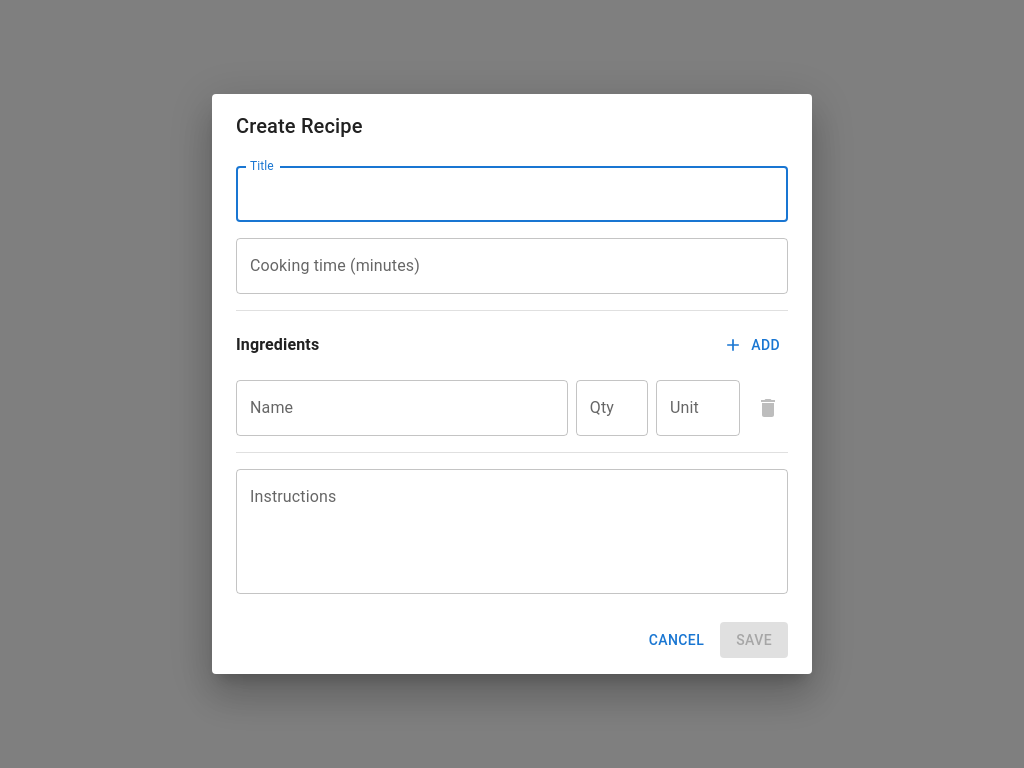
Test: CreateRecipeDialog › disables Save until required fields are filled
Expected: the button "Save" is disabled, [720, 622, 788, 658]
Type "My Recipe" into the field labelled "Title" at (512, 194), box [236, 166, 788, 222]
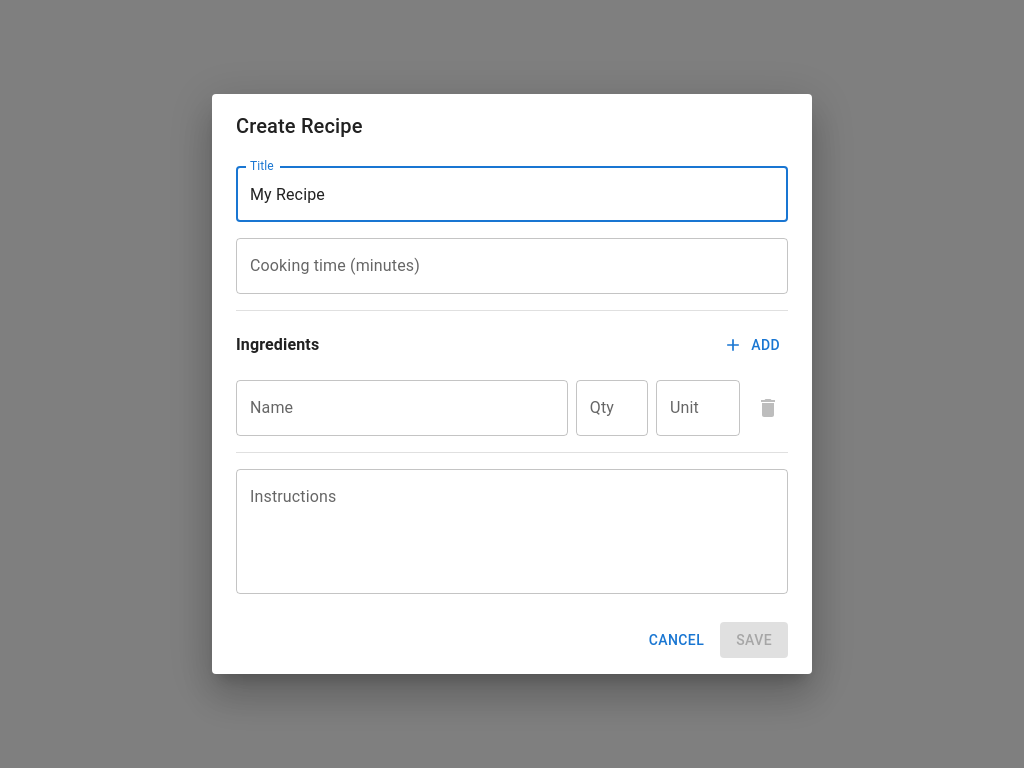
Expected: the button "Save" is disabled, [720, 622, 788, 658]
Type "10" into the field labelled "Cooking time (minutes)" at (512, 266), box [236, 238, 788, 294]
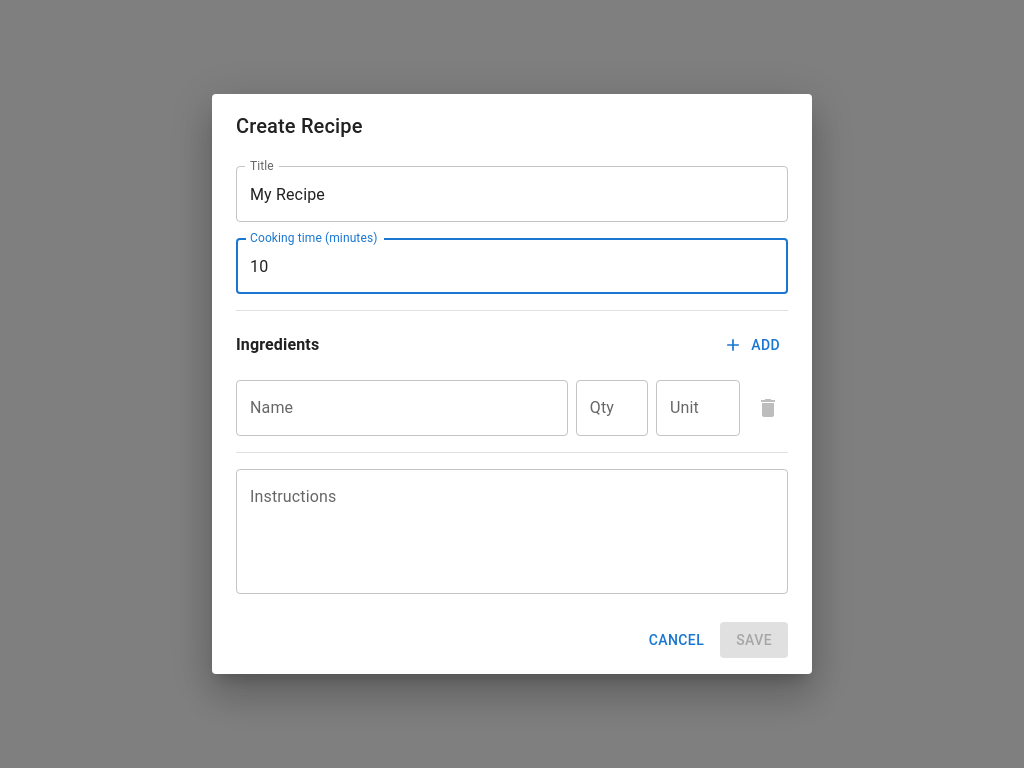
Expected: the button "Save" is disabled, [720, 622, 788, 658]
Type "ground beef" into the field labelled "Name" at (402, 408), box [236, 380, 568, 436]
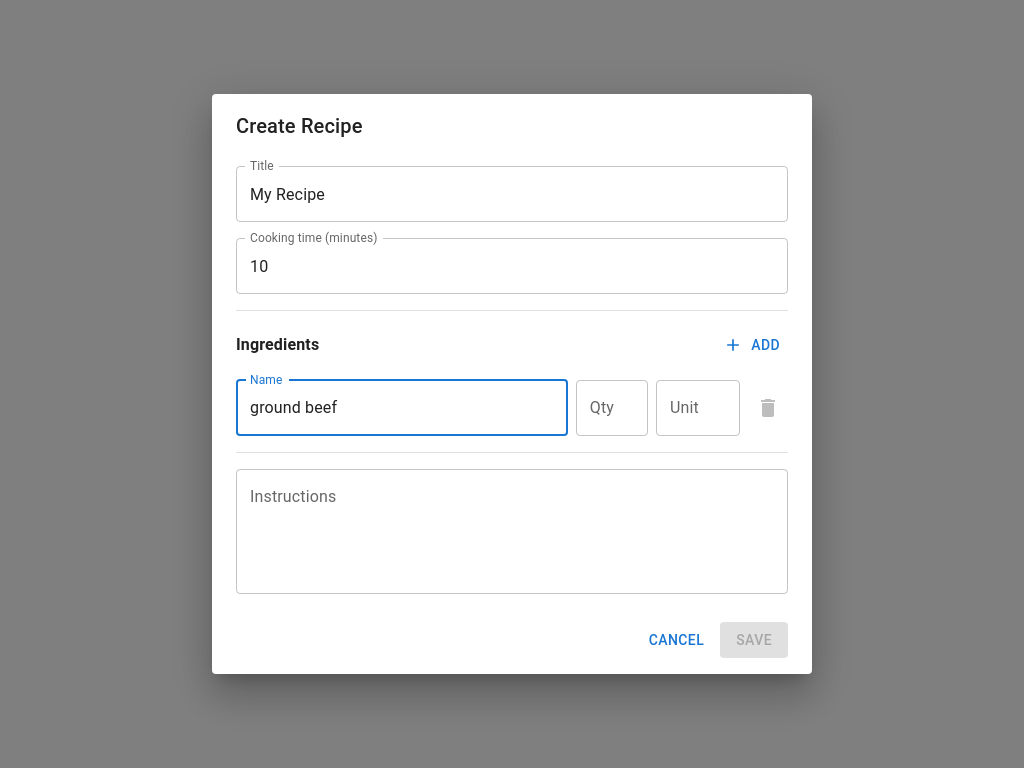
Expected: the button "Save" is disabled, [720, 622, 788, 658]
Type "1" into the field labelled "Qty" at (612, 408), box [576, 380, 648, 436]
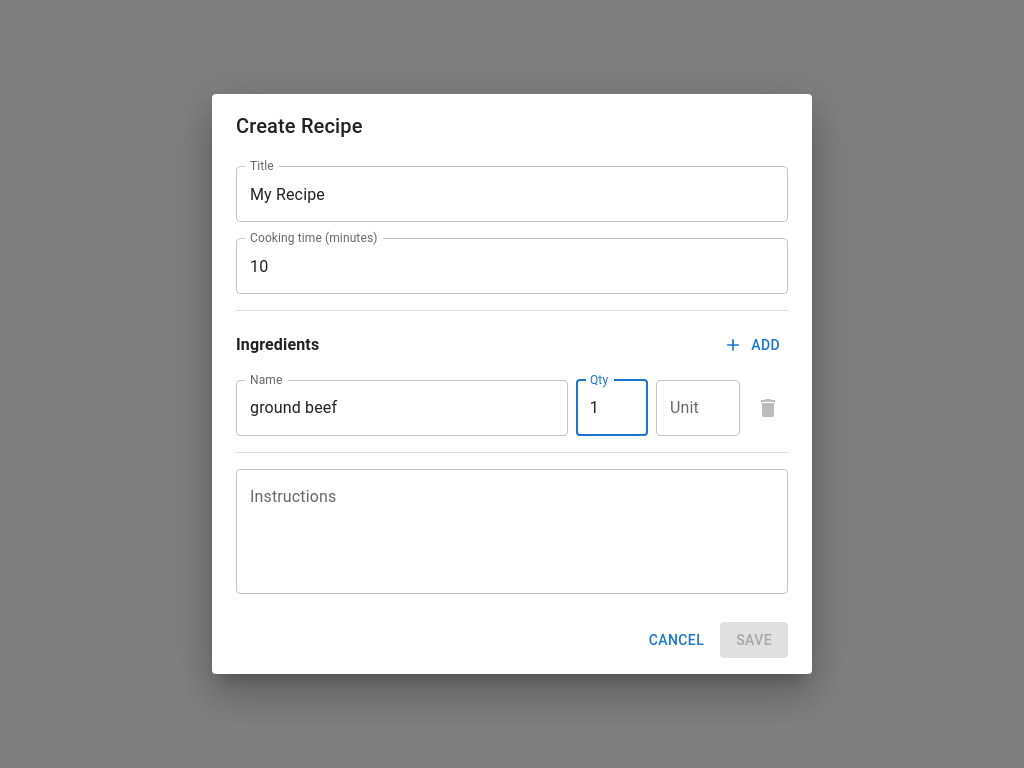
Expected: the button "Save" is disabled, [720, 622, 788, 658]
Type "lb" into the field labelled "Unit" at (698, 408), box [656, 380, 740, 436]
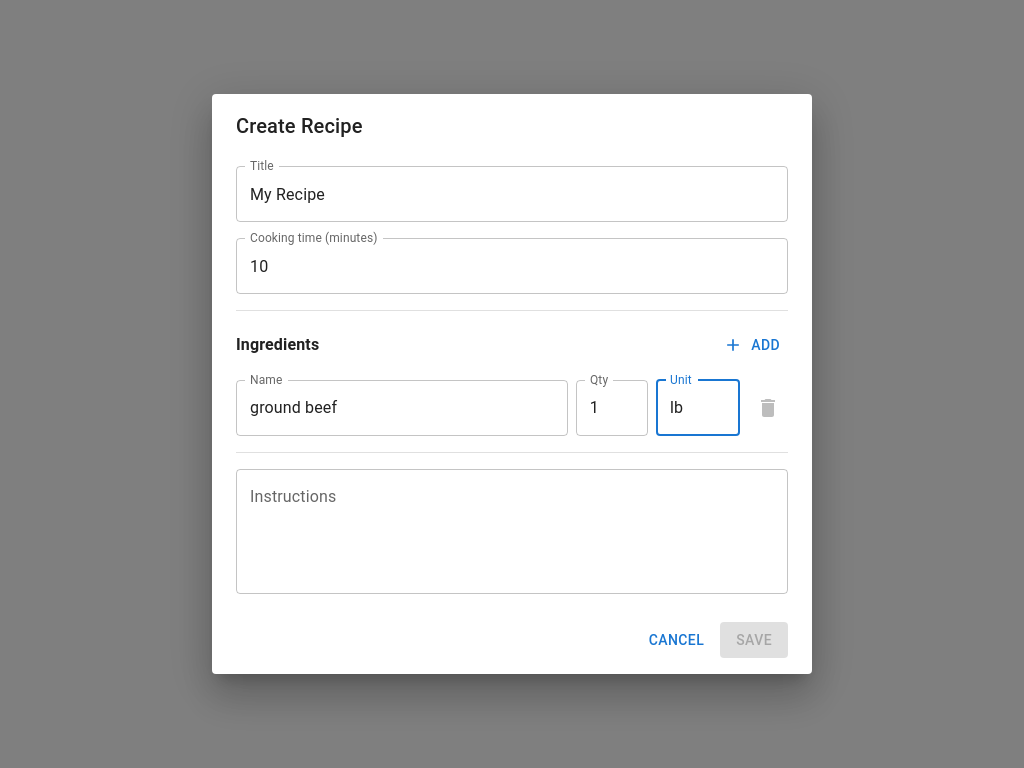
Expected: the button "Save" is disabled, [720, 622, 788, 658]
Type "Cook it." into the text box labelled "Instructions" at (512, 531), box [250, 485, 774, 577]
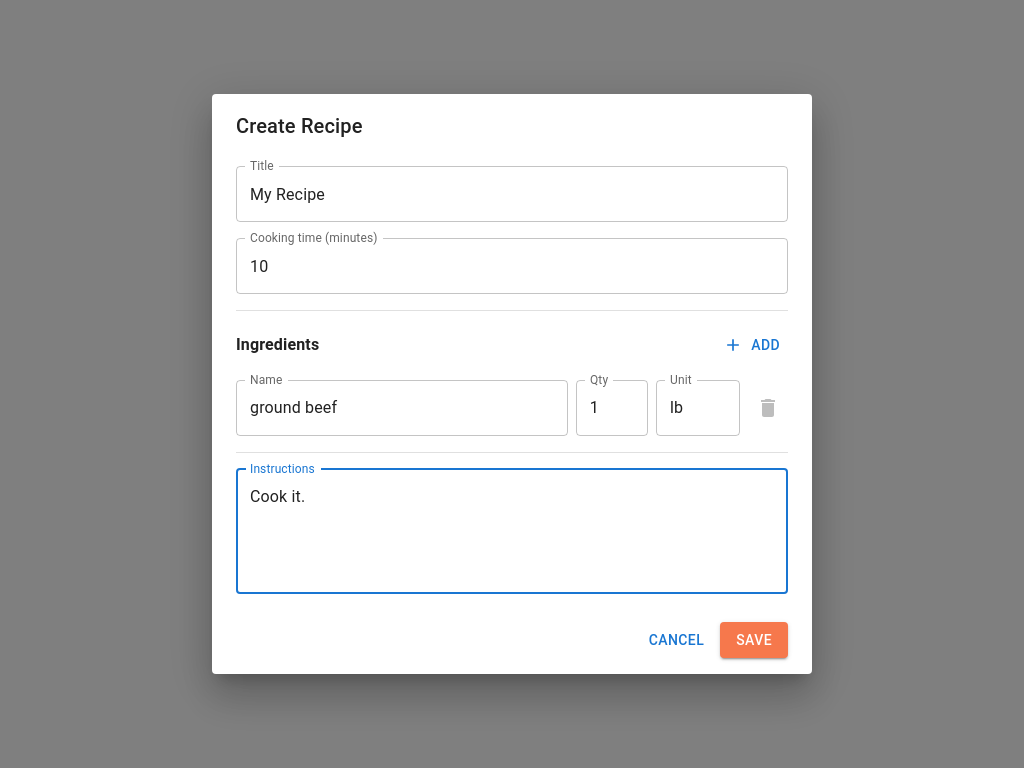
Result: the button "Save" is enabled at [720, 622, 788, 658]
